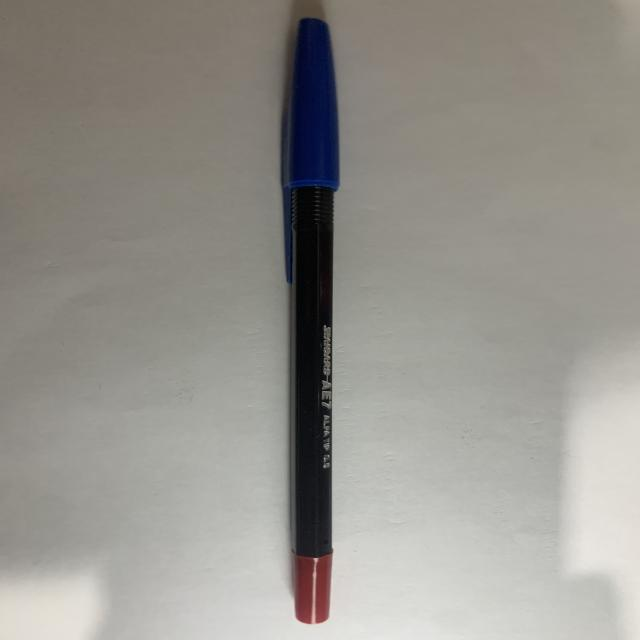Pulpen: (273, 13, 359, 630)
